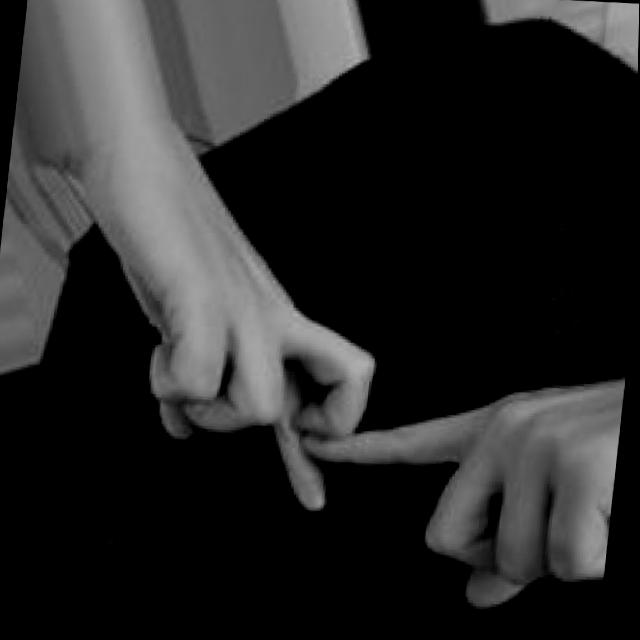R: (96, 175, 636, 636)
